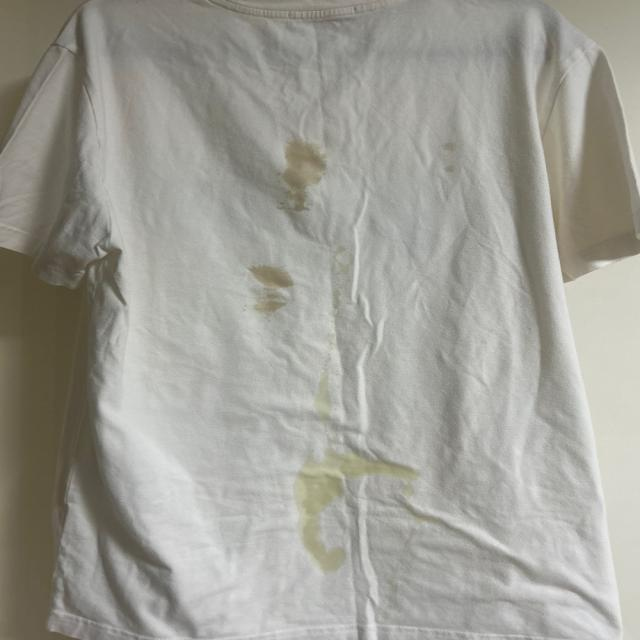stain: (296, 444, 421, 494), (289, 488, 354, 578), (277, 136, 340, 221), (240, 263, 299, 317), (434, 138, 479, 188)
